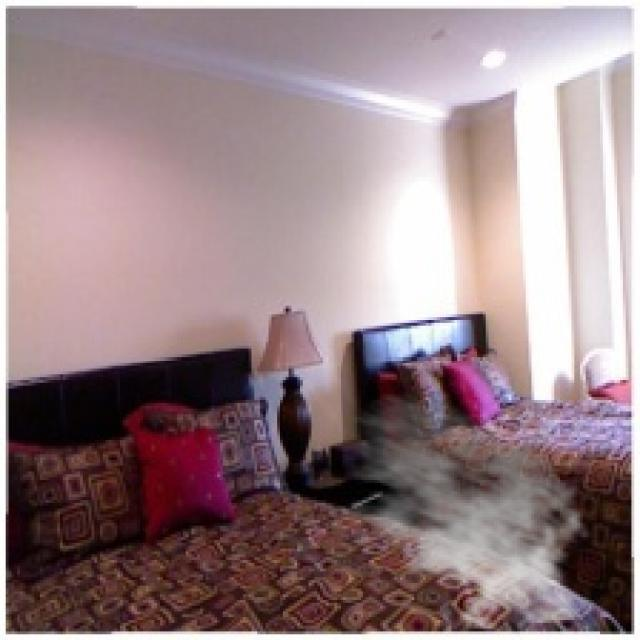Smoke: (328, 392, 594, 632)
